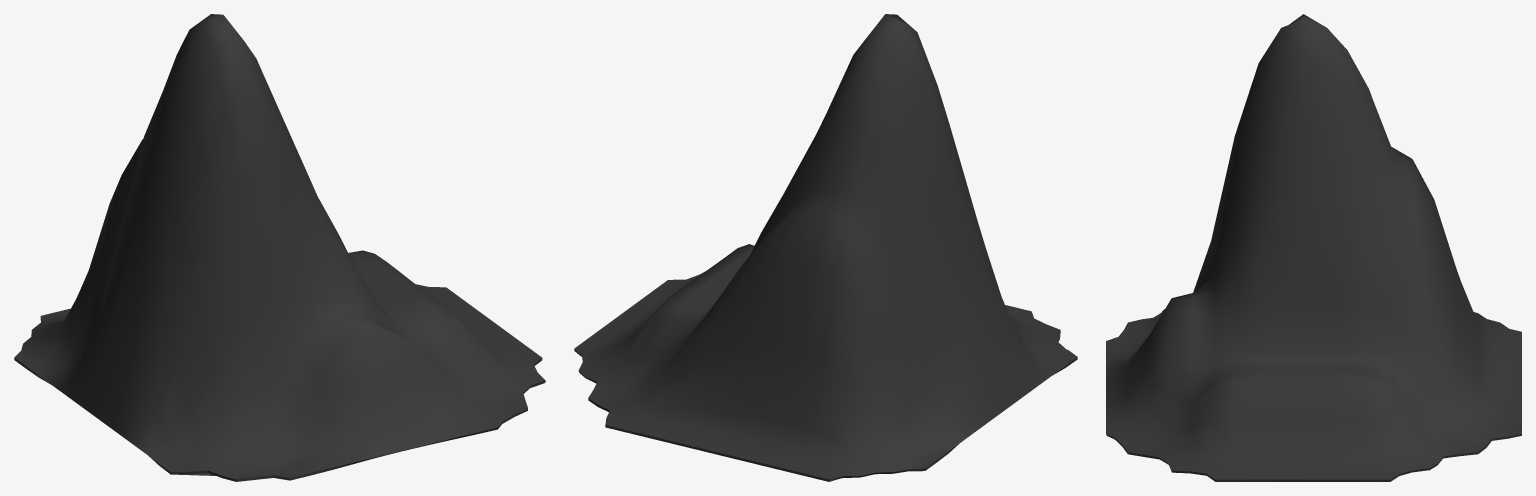
File: Mountain.fbx
3 views of the same model, side by side, from view 1: azimuth 30°, elevation 25°; view 2: azimuth 150°, elevation 25°; view 3: azimuth 270°, elevation 25° (orthographic). The views are drawn at different scales.
Parts seen in each view (by area): view 1: Mountain; view 2: Mountain; view 3: Mountain.
Boxes of the visible parts, box(x1,y1,x2,y2) form: Mountain: box(14, 14, 545, 481); Mountain: box(574, 14, 1077, 481); Mountain: box(1106, 14, 1521, 481).
Bounding box in the file's own units: 47.28 × 42.96 × 47.28.
